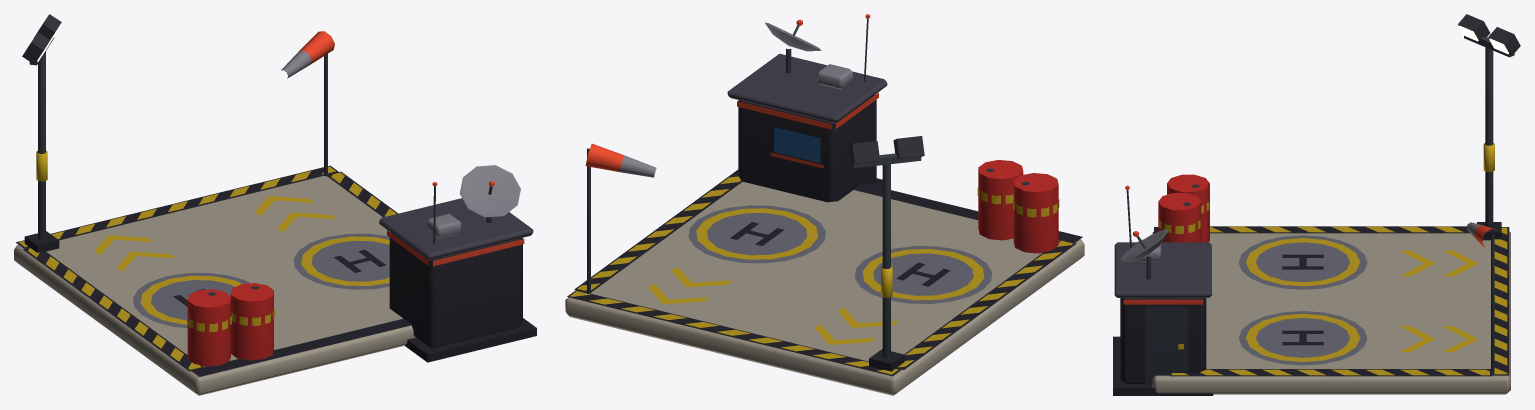
The model's file is drone-pad.glb.
3 views of the same model, side by side, from view 1: azimuth 30°, elevation 25°; view 2: azimuth 150°, elevation 25°; view 3: azimuth 270°, elevation 25° (orthographic). The views are drawn at different scales.
Parts seen in each view (by area): view 1: drone-pad Warm concrete, drone-pad Ashen charcoal, drone-pad Ash grey, drone-pad Hazard yellow, drone-pad Fuel red, drone-pad Ashen slate, drone-pad Gunmetal, drone-pad Ember paint; view 2: drone-pad Warm concrete, drone-pad Ashen charcoal, drone-pad Ash grey, drone-pad Hazard yellow, drone-pad Fuel red, drone-pad Ashen slate, drone-pad Gunmetal, drone-pad Ember paint, drone-pad Tinted glass; view 3: drone-pad Warm concrete, drone-pad Ashen charcoal, drone-pad Ash grey, drone-pad Hazard yellow, drone-pad Gunmetal, drone-pad Ashen slate, drone-pad Fuel red, drone-pad Ember paint.
Part boxes in pixels (left/top/right/bottom): drone-pad Warm concrete: left=14, top=176, right=415, bottom=395; drone-pad Ashen charcoal: left=16, top=14, right=536, bottom=376; drone-pad Ash grey: left=133, top=50, right=520, bottom=328; drone-pad Hazard yellow: left=19, top=151, right=396, bottom=369; drone-pad Fuel red: left=187, top=283, right=273, bottom=366; drone-pad Ashen slate: left=379, top=198, right=533, bottom=260; drone-pad Gunmetal: left=29, top=37, right=492, bottom=295; drone-pad Ember paint: left=300, top=31, right=524, bottom=266; drone-pad Warm concrete: left=565, top=182, right=1084, bottom=395; drone-pad Ashen charcoal: left=567, top=95, right=1082, bottom=376; drone-pad Ash grey: left=620, top=22, right=992, bottom=303; drone-pad Hazard yellow: left=570, top=176, right=1073, bottom=374; drone-pad Fuel red: left=978, top=160, right=1058, bottom=253; drone-pad Ashen slate: left=727, top=53, right=887, bottom=123; drone-pad Gunmetal: left=587, top=18, right=1029, bottom=358; drone-pad Ember paint: left=585, top=14, right=878, bottom=171; drone-pad Tinted glass: left=774, top=127, right=820, bottom=163; drone-pad Warm concrete: left=1152, top=231, right=1510, bottom=394; drone-pad Ashen charcoal: left=1113, top=14, right=1520, bottom=395; drone-pad Ash grey: left=1119, top=222, right=1481, bottom=365; drone-pad Hazard yellow: left=1159, top=143, right=1507, bottom=375; drone-pad Gunmetal: left=1126, top=36, right=1514, bottom=385; drone-pad Ashen slate: left=1114, top=242, right=1211, bottom=297; drone-pad Fuel red: left=1158, top=174, right=1209, bottom=242; drone-pad Ember paint: left=1123, top=185, right=1497, bottom=304.
Size of the model in its own units: 5.14 by 3.54 by 5.69.
10 materials, 8 textured.
